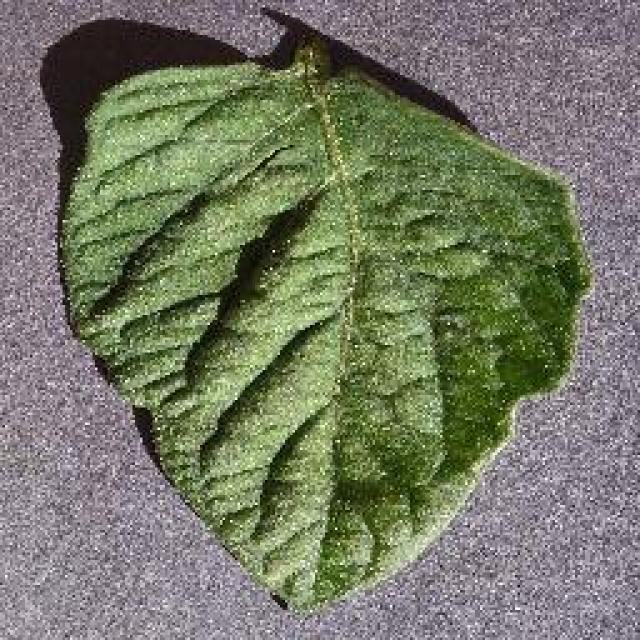Tomato___healthy: (58, 33, 593, 618)
